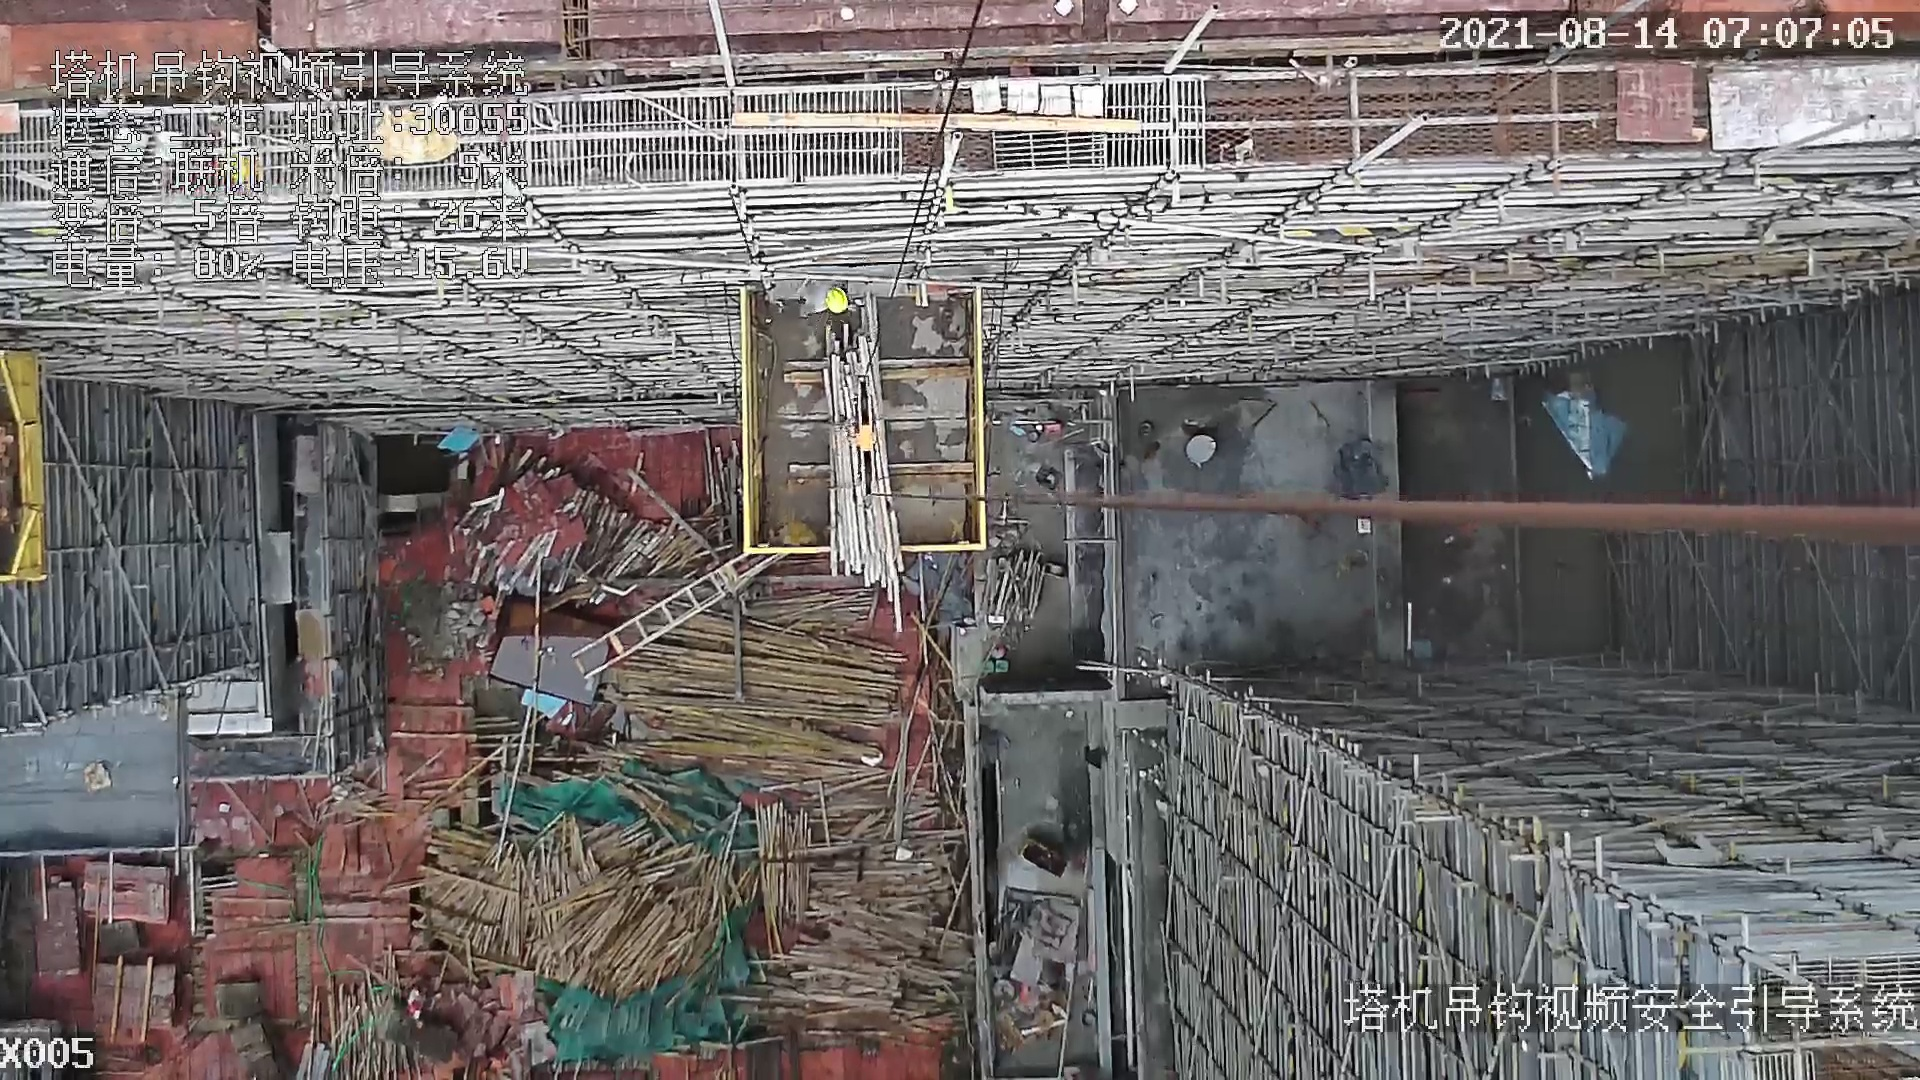helmet: (824, 286, 851, 313)
hook: (851, 381, 877, 514)
person: (794, 272, 863, 319)
